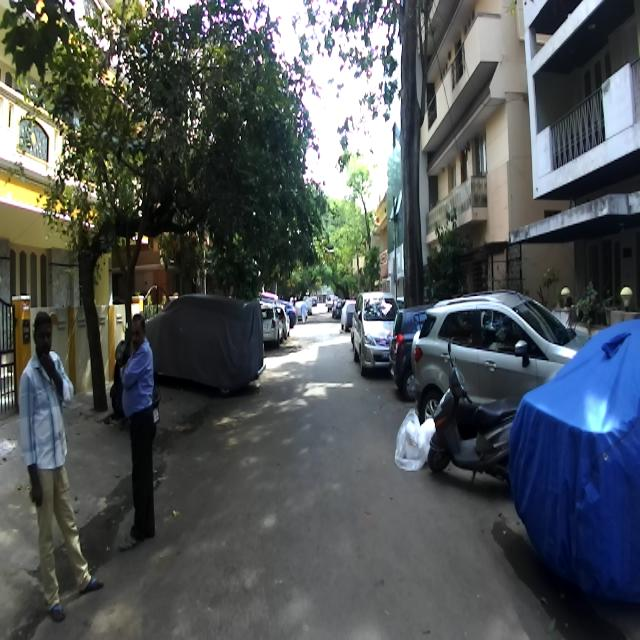car ahead at: (166, 287, 266, 403)
motorcycle ahead at: (428, 342, 514, 486)
person ahead at: (18, 299, 104, 620), (110, 306, 165, 543)
